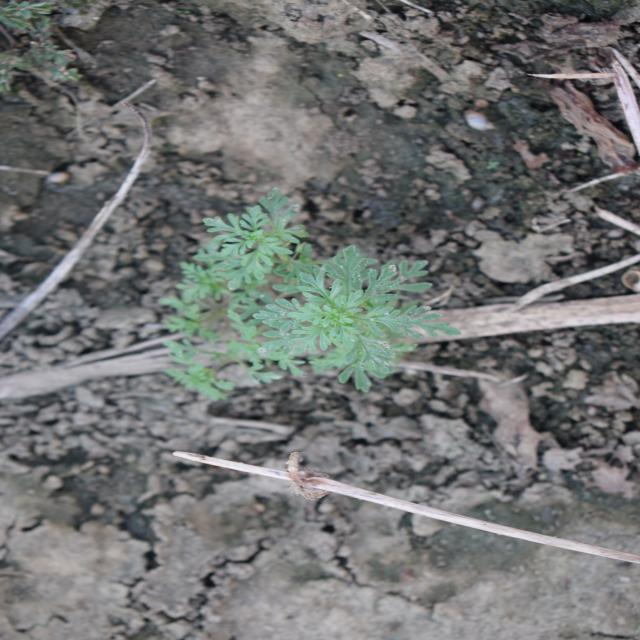Ragweed: (157, 186, 467, 405)
